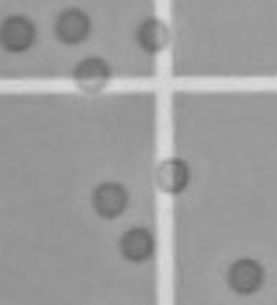cell: (65, 51, 116, 101), (218, 252, 268, 299), (86, 175, 131, 223), (1, 6, 42, 58), (131, 14, 176, 59), (50, 3, 95, 48), (150, 153, 192, 200), (116, 222, 158, 265)
